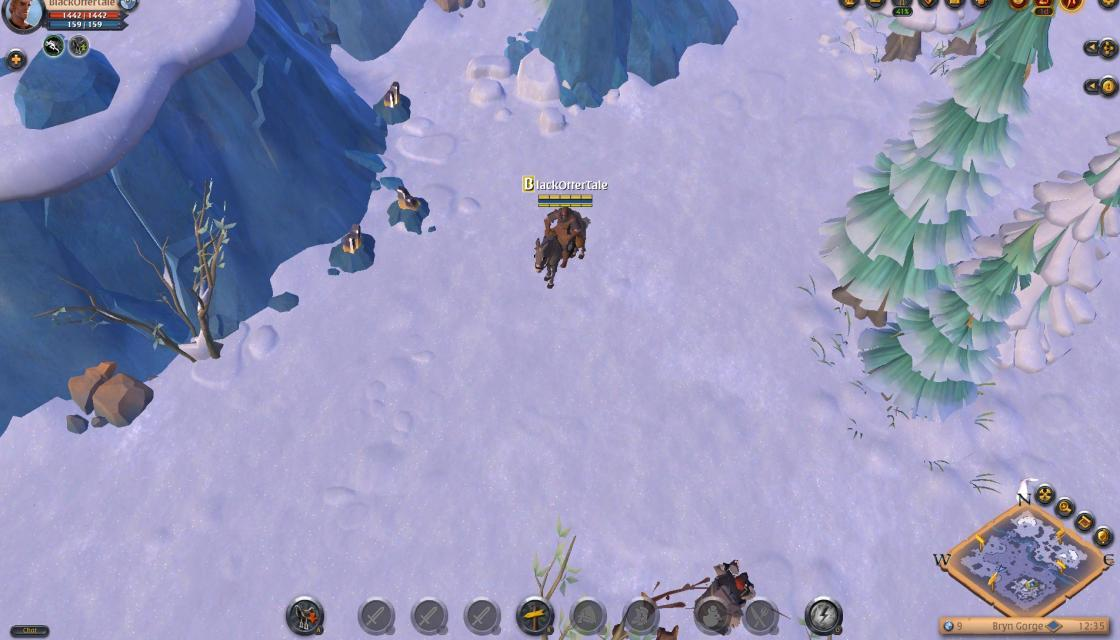copperore: (383, 185, 439, 239), (324, 226, 376, 276), (368, 80, 415, 126)
limestone: (63, 360, 153, 436)
